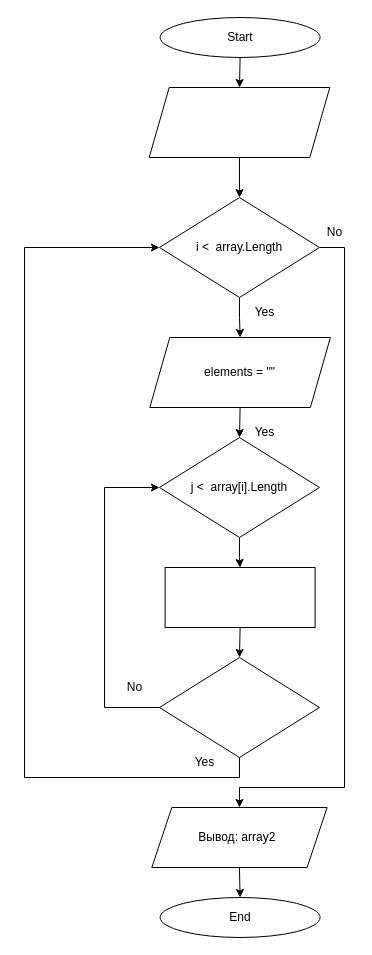
Some shapes in this 372 by 955 pixel diagram are drawn without their labels. Here are the shapes that lost their labels. From the top down, the box of each, then its label:
(148, 86, 330, 158): array = {hello, 2, world, ;-)} array2 = до array.Length
(164, 566, 315, 628): elements += array[i][j] array2[i] = elements
(158, 656, 320, 758): elements.Length == 3
